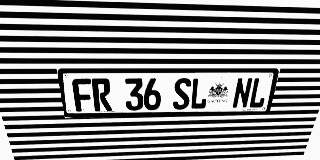3: (125, 78, 143, 111)
6: (144, 78, 161, 110)
F: (71, 78, 94, 112)
L: (248, 77, 270, 108), (189, 78, 209, 109)
N: (232, 78, 253, 108)
R: (91, 78, 112, 111)
S: (173, 78, 192, 110)
